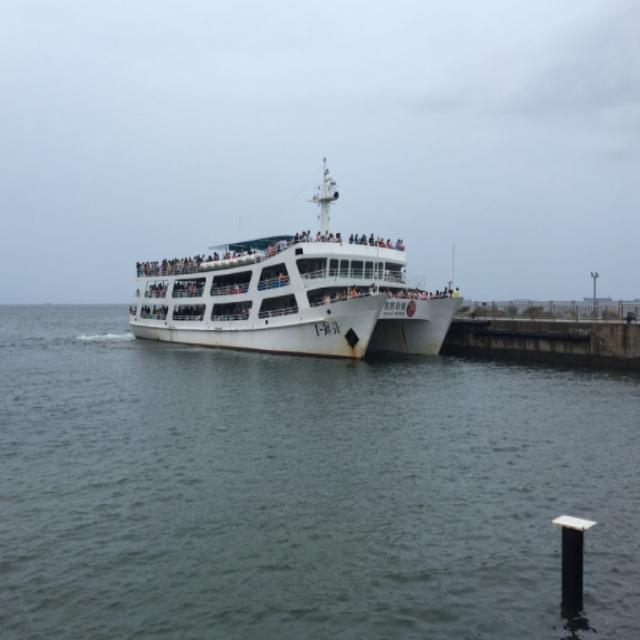passenger ship: (126, 190, 462, 360)
